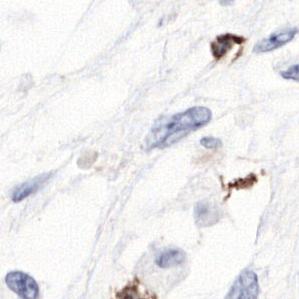Lymphocyte: (208, 32, 248, 61)
